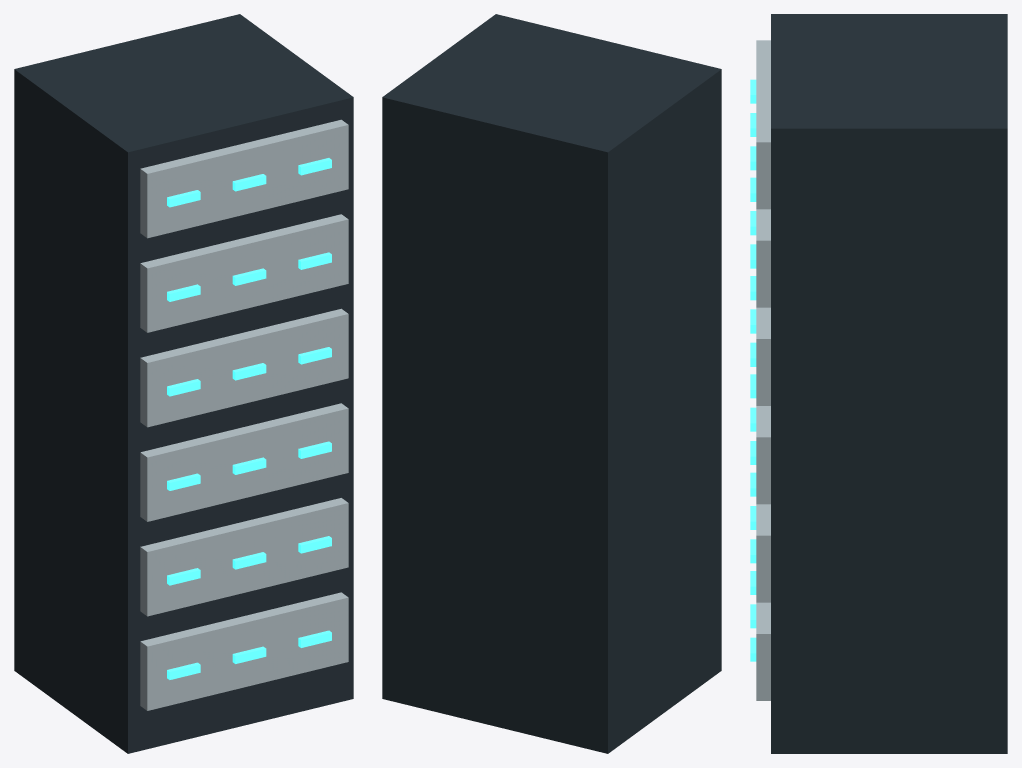
Rendered from rack.glb.
3 views of the same model, side by side, from view 1: azimuth 30°, elevation 25°; view 2: azimuth 150°, elevation 25°; view 3: azimuth 270°, elevation 25° (orthographic). The views are drawn at different scales.
Visible parts, largest first — view 1: server cabinet, GPU blade, GPU blade.001, GPU blade.002, GPU blade.003, GPU blade.004, GPU blade.005; view 2: server cabinet; view 3: server cabinet, GPU blade.005, GPU blade, GPU blade.001, GPU blade.002, GPU blade.003, GPU blade.004.
Boxes of the visible parts, x1,y1,x2,y2 form: server cabinet: (14,14,353,753); GPU blade: (140,592,348,710); GPU blade.001: (140,498,348,616); GPU blade.002: (140,403,348,521); GPU blade.003: (140,308,348,427); GPU blade.004: (140,214,348,332); GPU blade.005: (140,119,348,238); server cabinet: (382,14,721,753); server cabinet: (771,14,1007,753); GPU blade.005: (756,40,770,209); GPU blade: (756,602,770,700); GPU blade.001: (756,504,770,602); GPU blade.002: (756,406,770,504); GPU blade.003: (756,307,770,405); GPU blade.004: (756,209,770,307).
Bounding box in the file's own units: 0.55 × 1.4 × 0.522.
